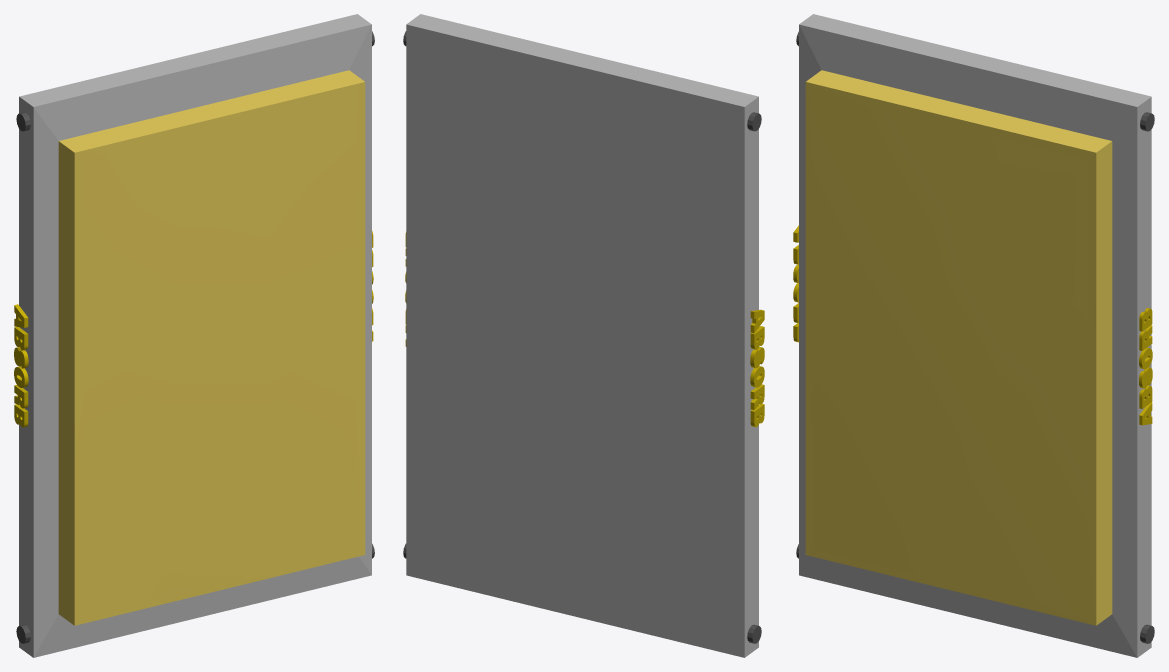
The model's file is Absorb Panel.fbx.
3 renders of one model, left to right at view 1: azimuth 30°, elevation 25°; view 2: azimuth 150°, elevation 25°; view 3: azimuth 330°, elevation 25°, orthographic.
Parts seen in each view (by area): view 1: base, absorb_text1, screws; view 2: base, absorb_text1, screws; view 3: base, absorb_text1, screws.
Boxes of the visible parts, bbox=[...] form: base: bbox=[19, 14, 371, 657]; absorb_text1: bbox=[14, 231, 373, 427]; screws: bbox=[16, 31, 374, 643]; base: bbox=[406, 14, 758, 657]; absorb_text1: bbox=[405, 232, 764, 427]; screws: bbox=[403, 31, 761, 643]; base: bbox=[799, 14, 1151, 657]; absorb_text1: bbox=[793, 225, 1152, 425]; screws: bbox=[796, 31, 1154, 643].
Bounding box in the file's own units: 15.78 × 23.65 × 2.55.
